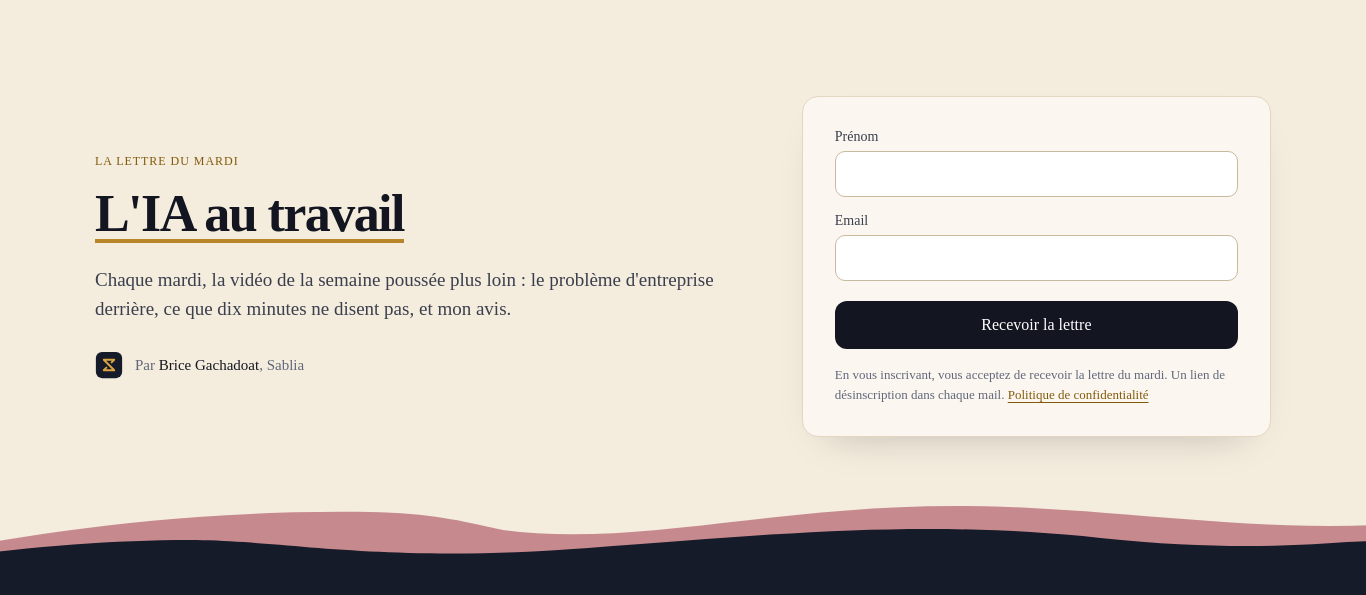
Test case: /newsletter: the public form › sends a request and shows the same « pending » screen whatever the address
Type "Léa" into the field labelled "Prénom" at [1036, 174], box [835,151,1238,197]
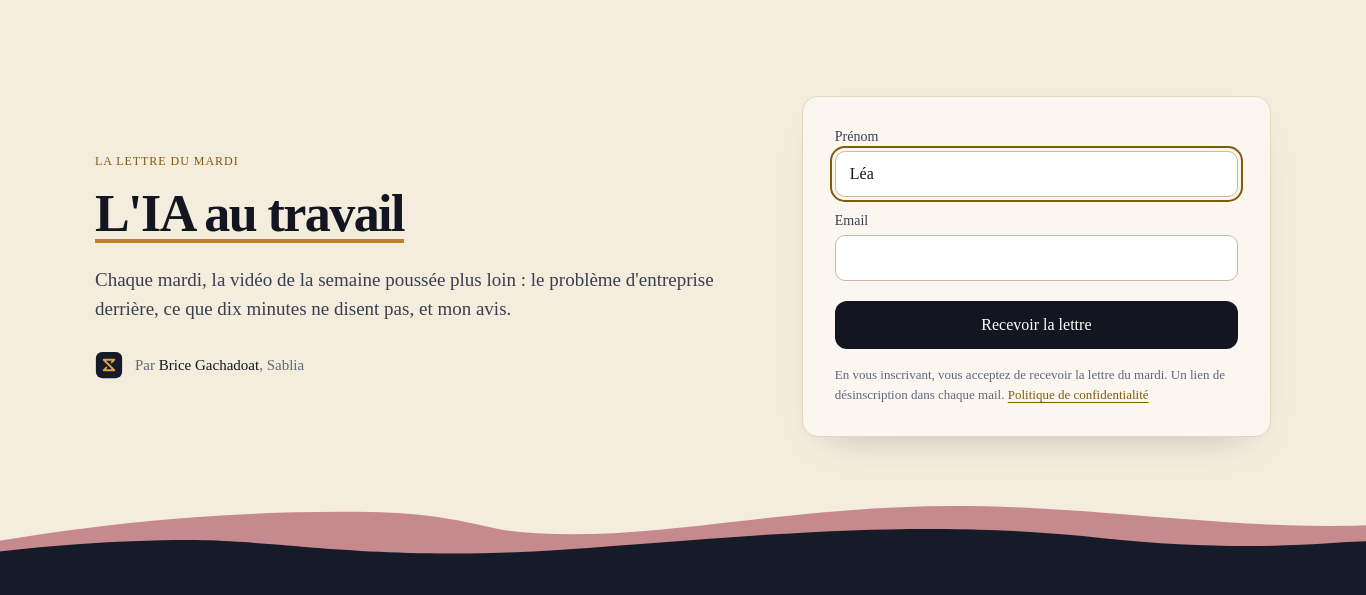
Type "lea@exemple.fr" into the field labelled "Email" at [1036, 258], box [835,235,1238,281]
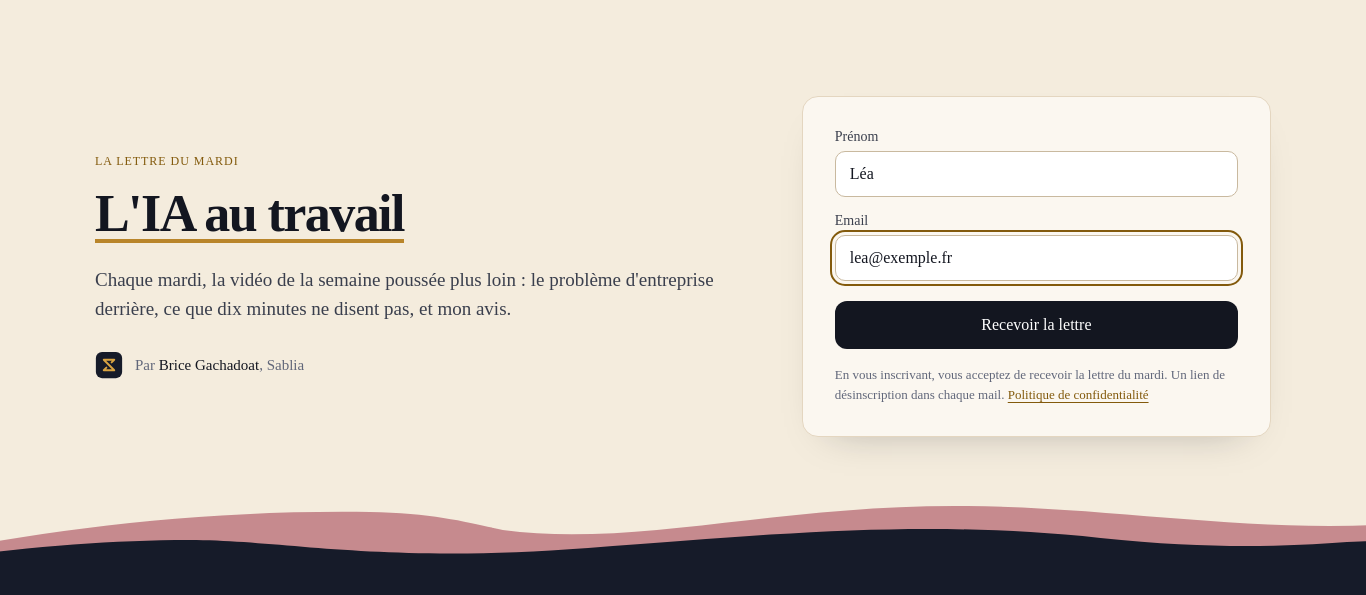
Click the button "Recevoir la lettre" at [1036, 325], box [835,301,1238,349]
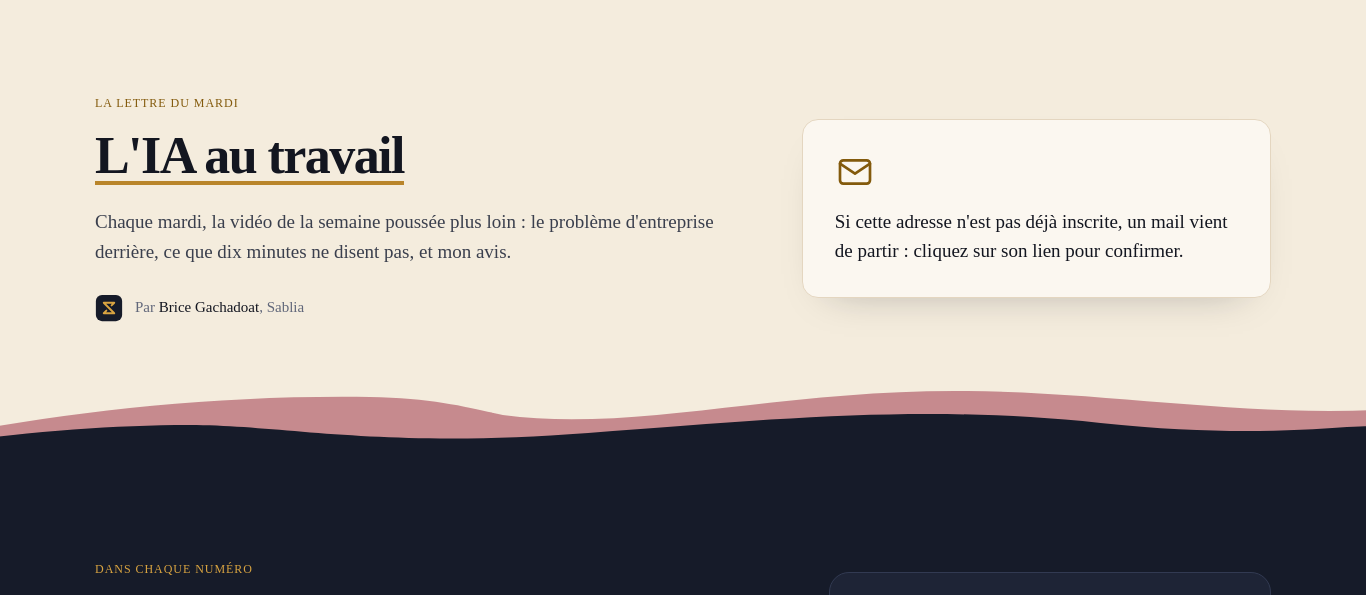
Expected: the text "Si cette adresse n'est pas déjà inscrite, un mail vient de partir : cliquez sur son lien pour confirmer." is shown, [835,212,1228,261]
